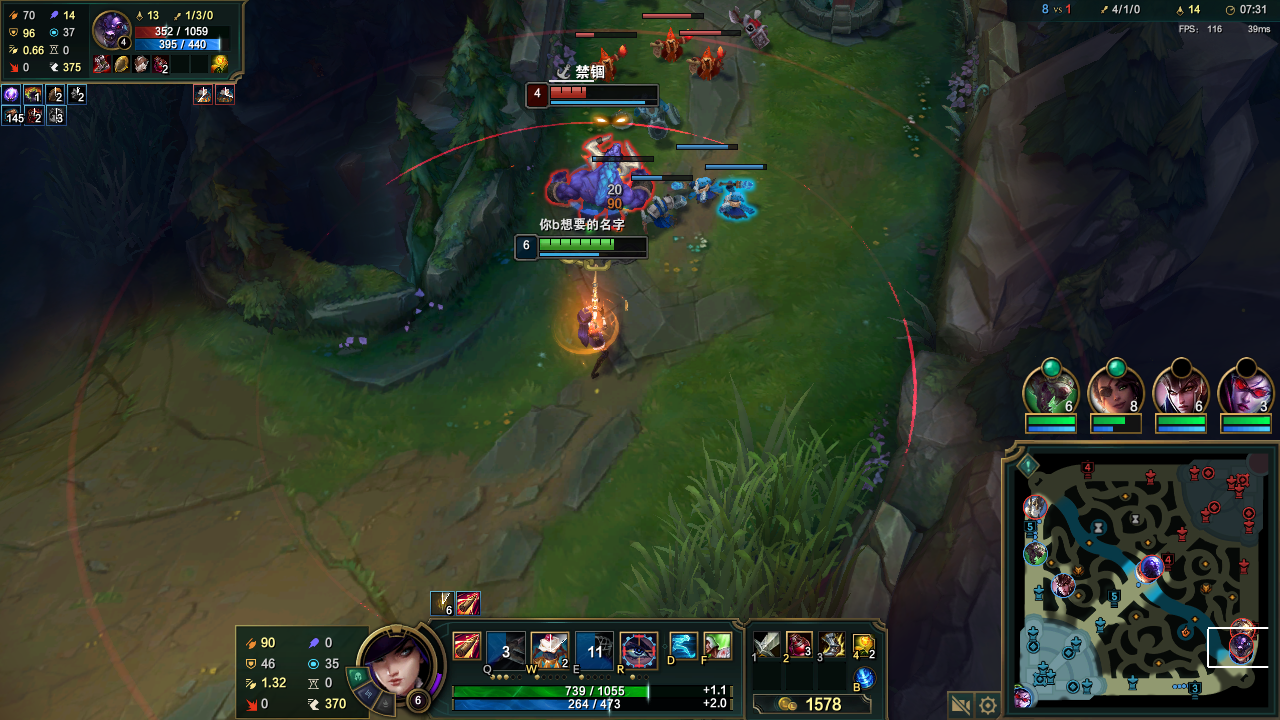DFXB: (729, 15, 771, 51), (690, 51, 724, 79), (590, 53, 620, 80), (660, 37, 682, 61)
DFYX: (550, 87, 655, 99)
WFXB: (720, 185, 755, 224), (648, 196, 680, 233), (684, 170, 714, 202)
